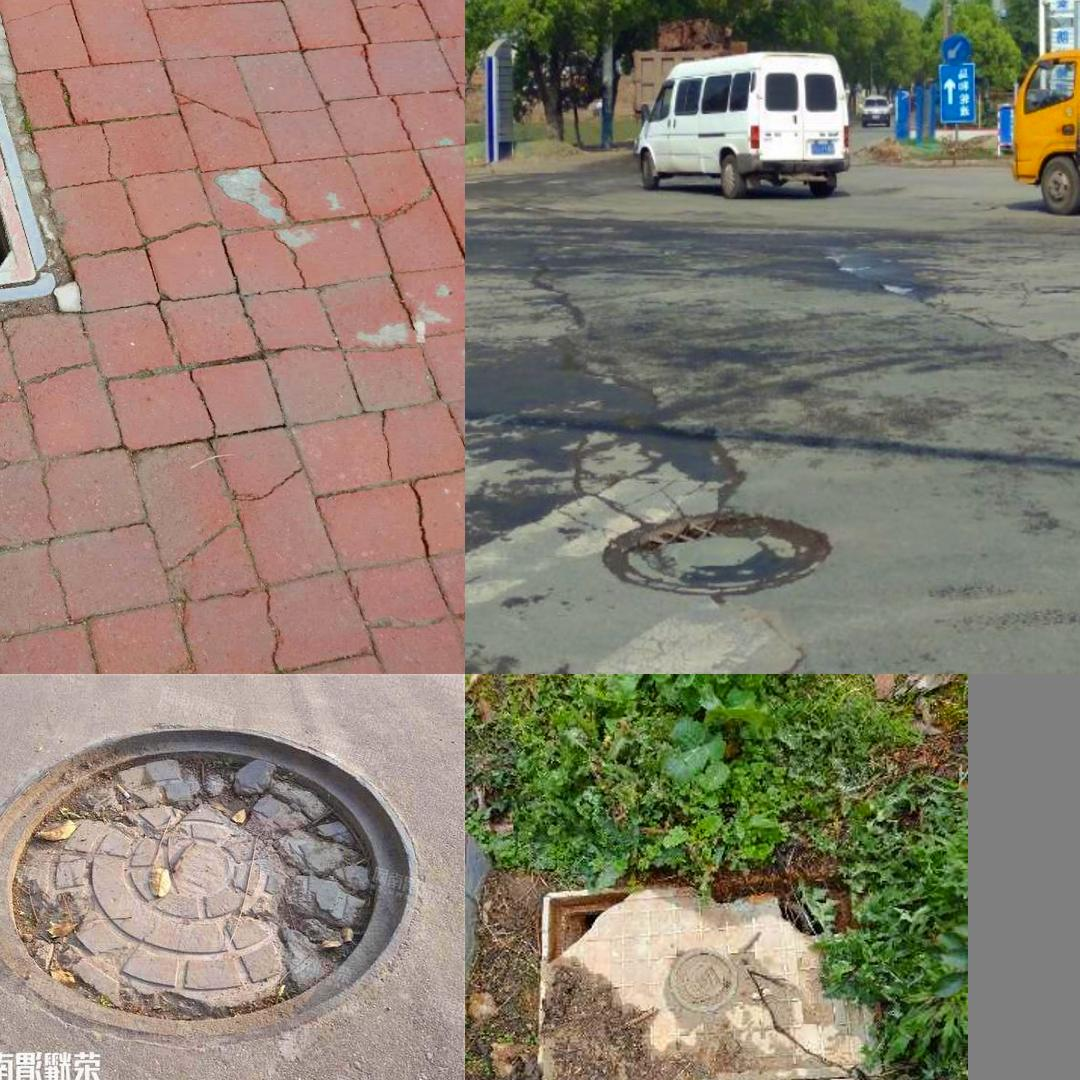broke: (0, 717, 426, 1041), (537, 876, 901, 1080), (601, 507, 831, 597), (0, 0, 57, 344)
